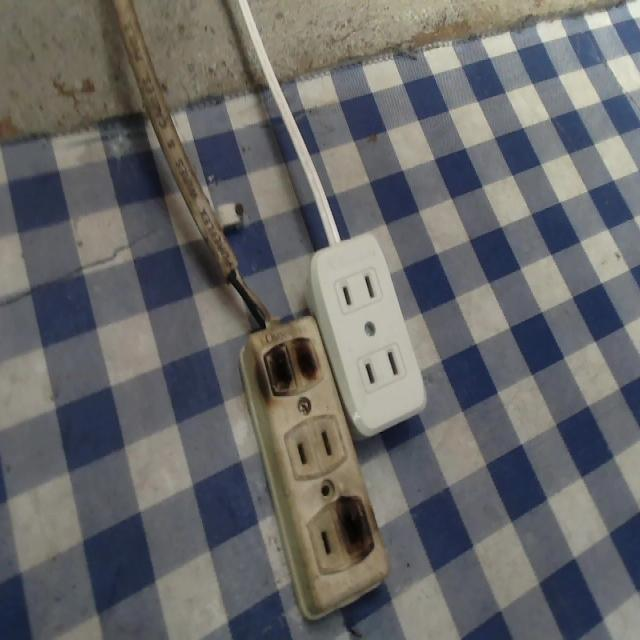-: (252, 332, 333, 404), (329, 488, 380, 571)
